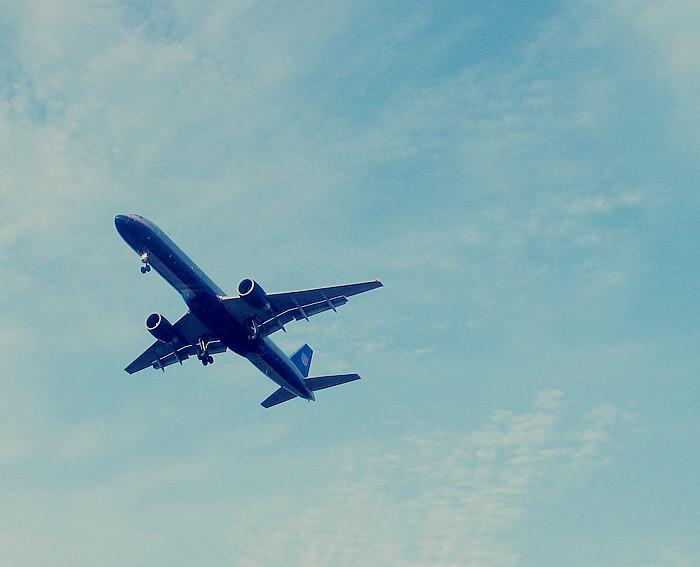plane: (113, 212, 384, 409)
